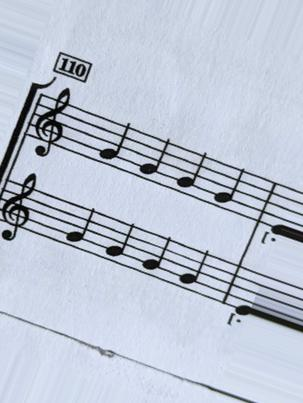G: (211, 158, 248, 221), (176, 243, 213, 303), (61, 202, 98, 258), (96, 116, 131, 175), (103, 215, 138, 273), (138, 131, 171, 191), (175, 144, 207, 205), (140, 229, 173, 288)
